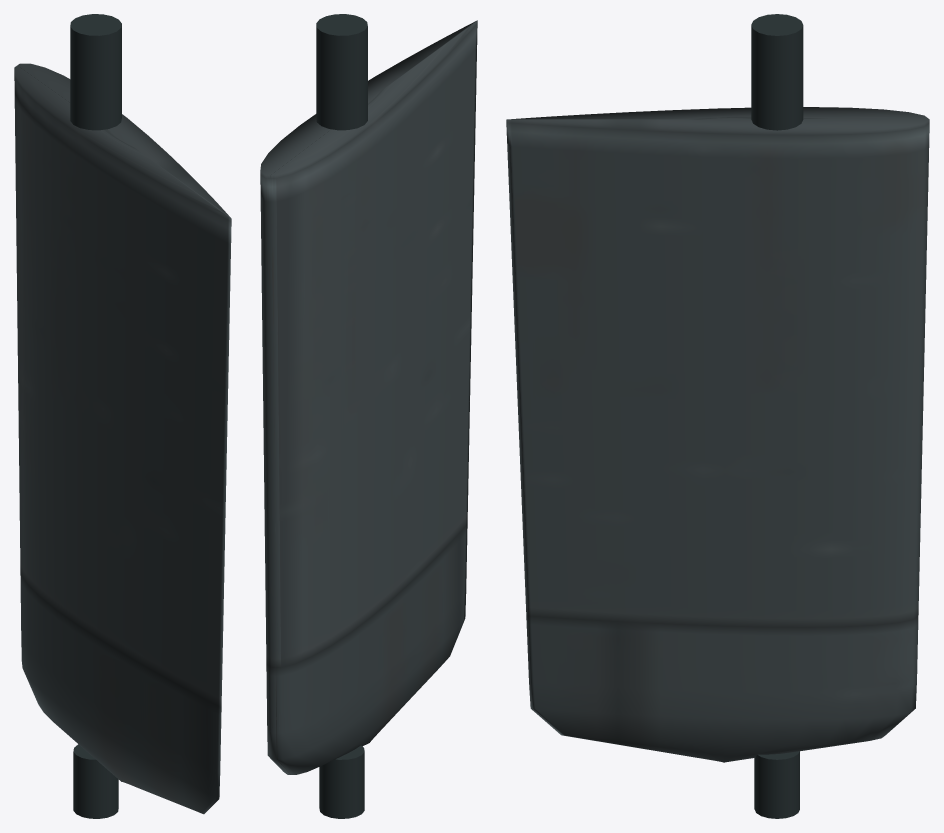
Rendered from rudderStarboard.obj.
The picture shows the model from 3 angles, left to right: view 1: azimuth 30°, elevation 25°; view 2: azimuth 150°, elevation 25°; view 3: azimuth 270°, elevation 25°; orthographic projection.
Parts seen in each view (by area): view 1: rudderStarboard; view 2: rudderStarboard; view 3: rudderStarboard.
Boxes of the visible parts, bbox=[...] form: rudderStarboard: bbox=[14, 14, 231, 818]; rudderStarboard: bbox=[260, 14, 477, 818]; rudderStarboard: bbox=[506, 14, 929, 818].
Bounding box in the file's own units: 0.1818 × 2.66 × 1.3.
Materials: 2 (1 with a texture image).
